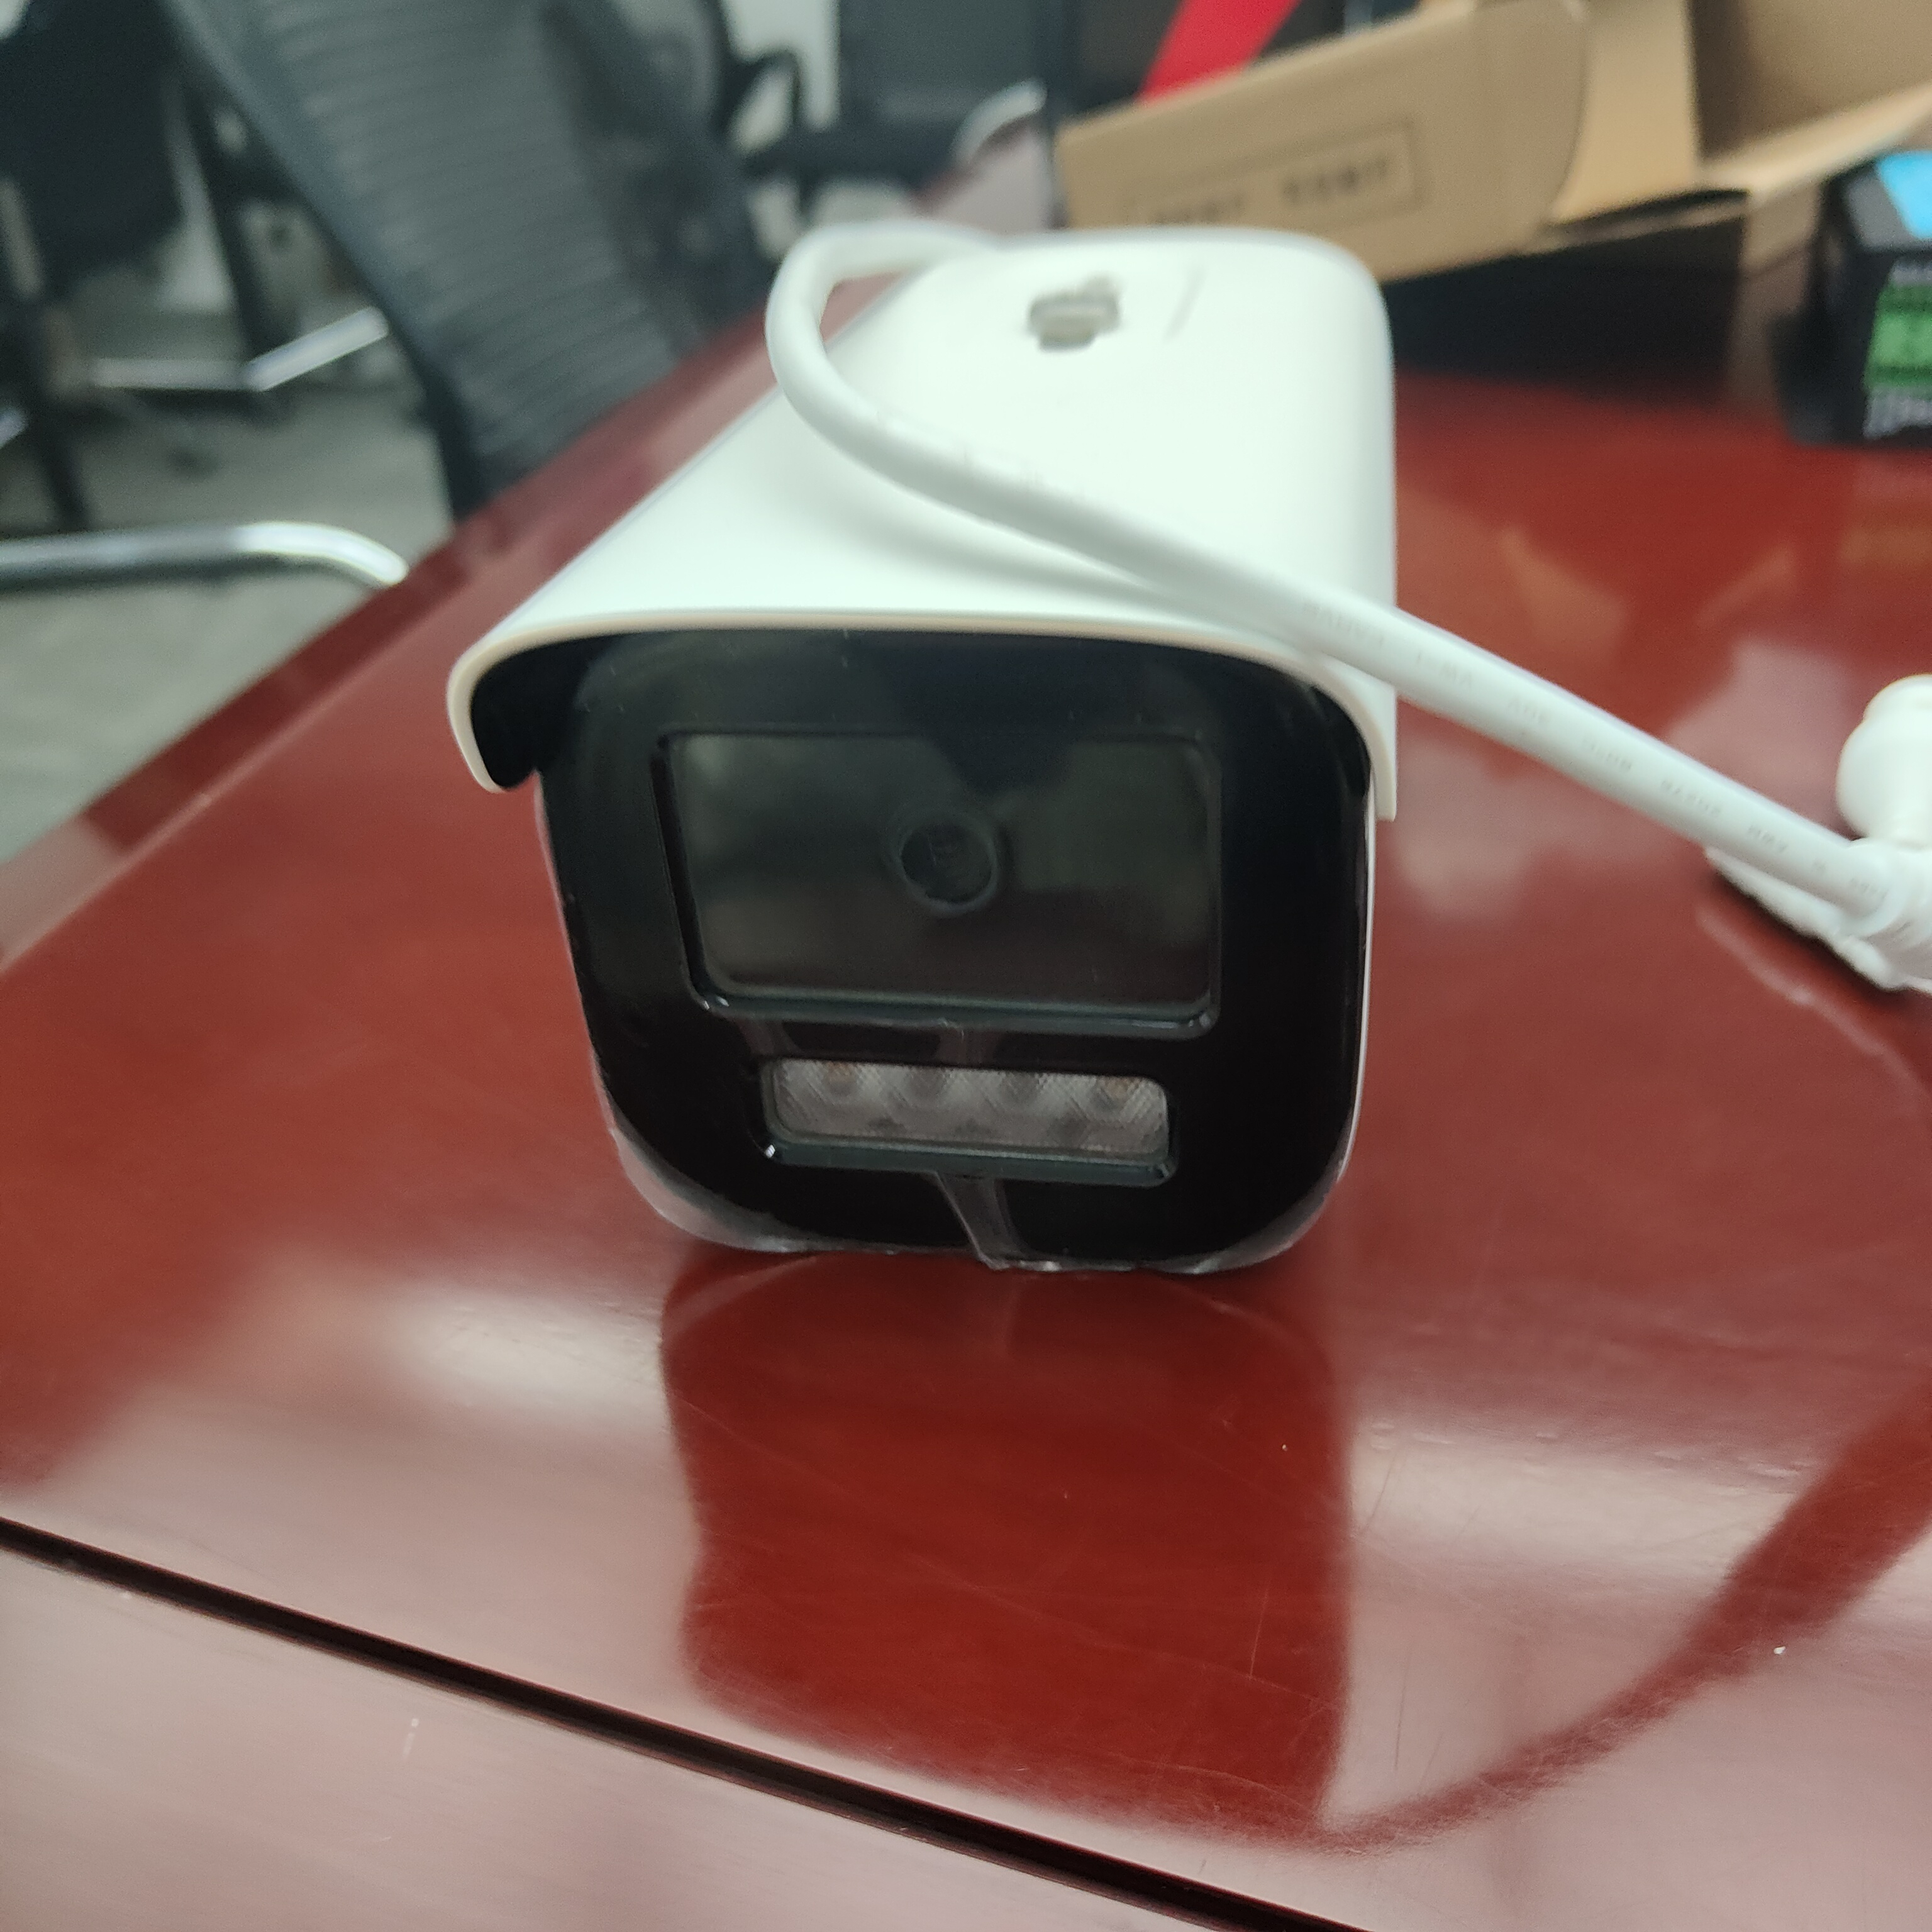hkws: (490, 225, 1476, 1325)
